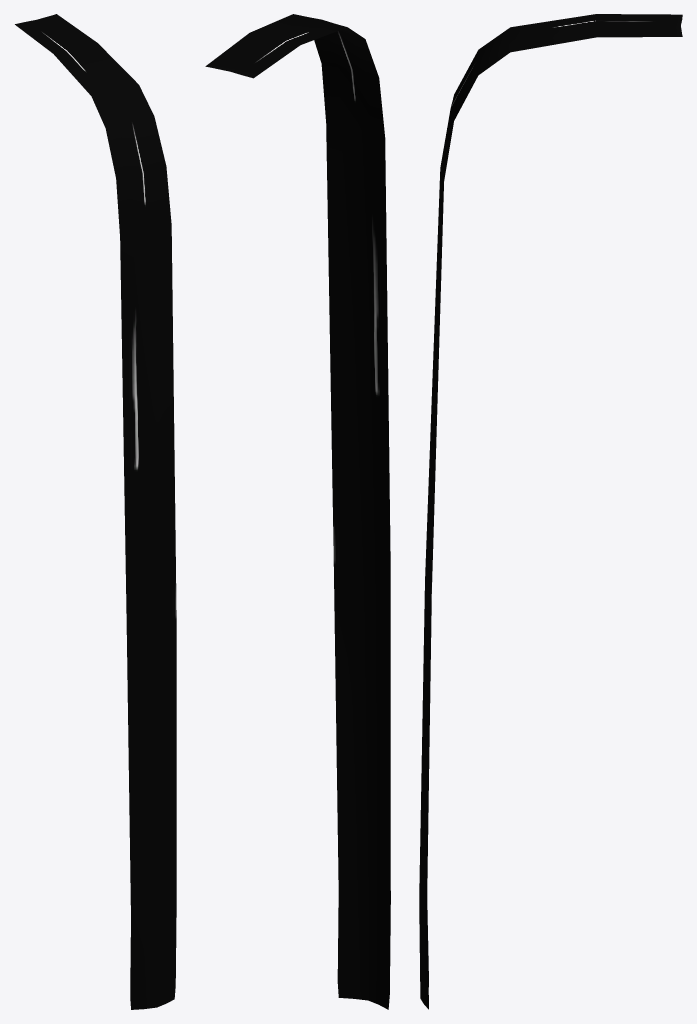
Rendered from P_Sandfall01.obj.
The picture shows the model from 3 angles, left to right: view 1: azimuth 30°, elevation 25°; view 2: azimuth 150°, elevation 25°; view 3: azimuth 270°, elevation 25°; orthographic projection. The views are drawn at different scales.
Bounding box in the file's own units: 0.6742 × 11.24 × 2.76.
